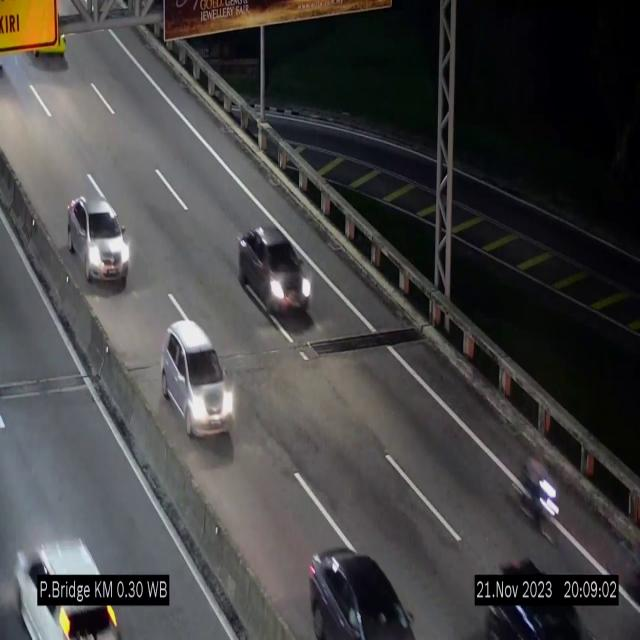Car: (160, 321, 238, 441), (239, 226, 313, 325), (68, 196, 130, 284)
Motorcycle: (520, 448, 562, 551)
